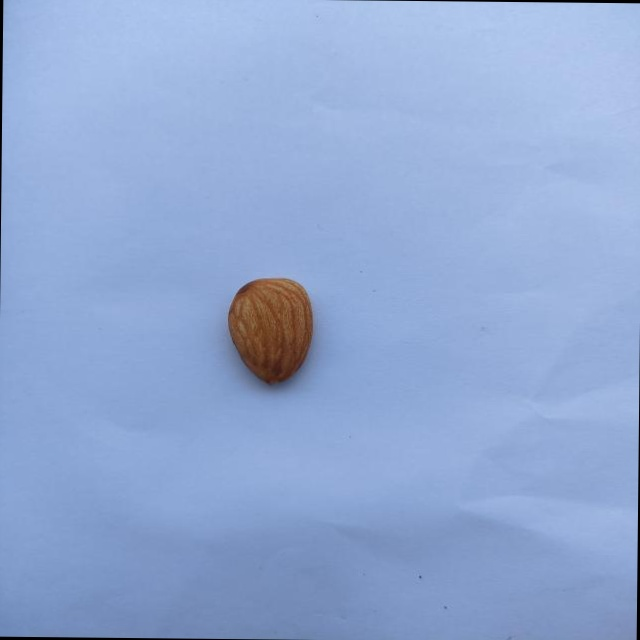grade1: (221, 271, 324, 393)
